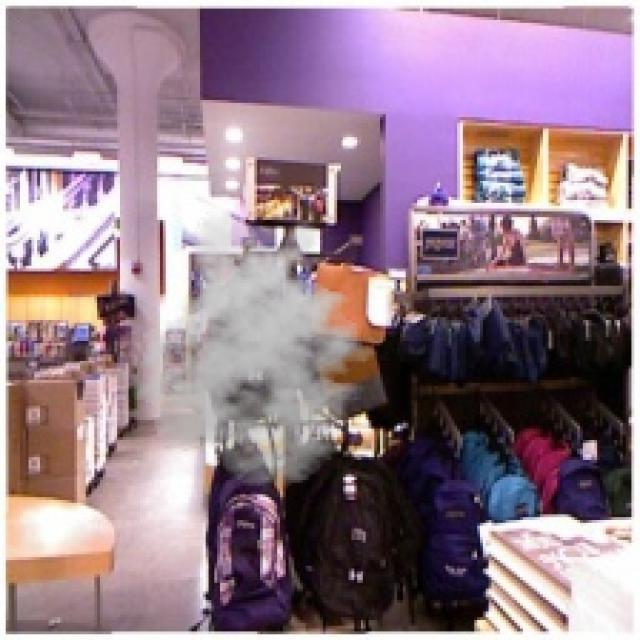Smoke: (125, 208, 388, 488)
